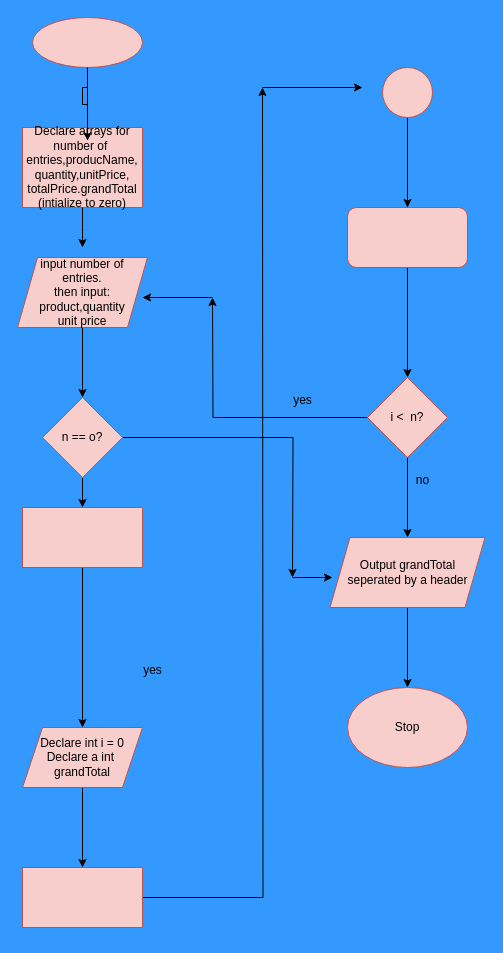
Image size: 503x953. Some labels were removed from this diagram. The centre of each missing label's shape, as x and y in pixels:
"Caculate totalPrice." goes at (82,537).
"grandTotal += Total" goes at (407,237).
"increase i by one" goes at (82,897).
"Start" goes at (87,42).
